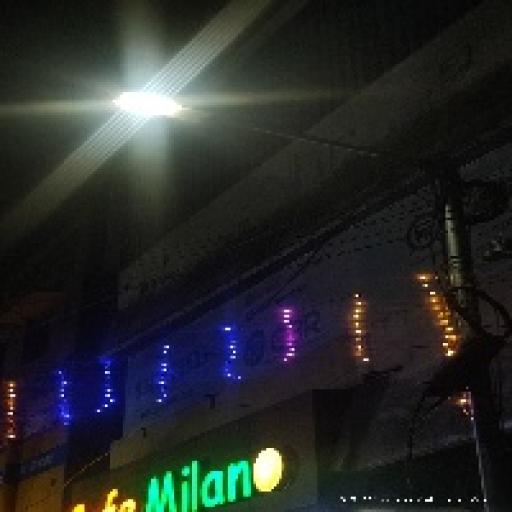Working: (105, 86, 222, 132)
